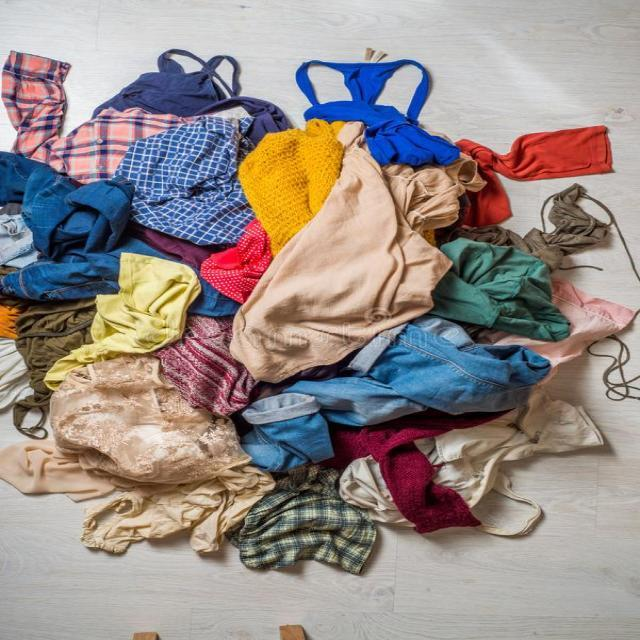clothes: (10, 356, 266, 564), (229, 130, 442, 378), (6, 51, 250, 252), (346, 406, 607, 540), (287, 48, 468, 172), (53, 256, 200, 390), (224, 462, 372, 578), (468, 126, 620, 224)
